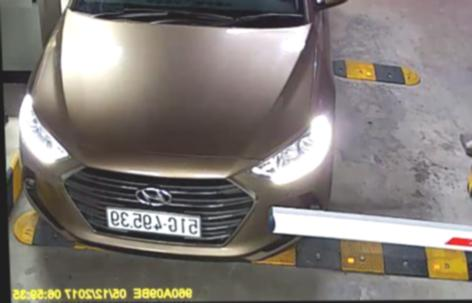License_Plate: (104, 205, 204, 239)
